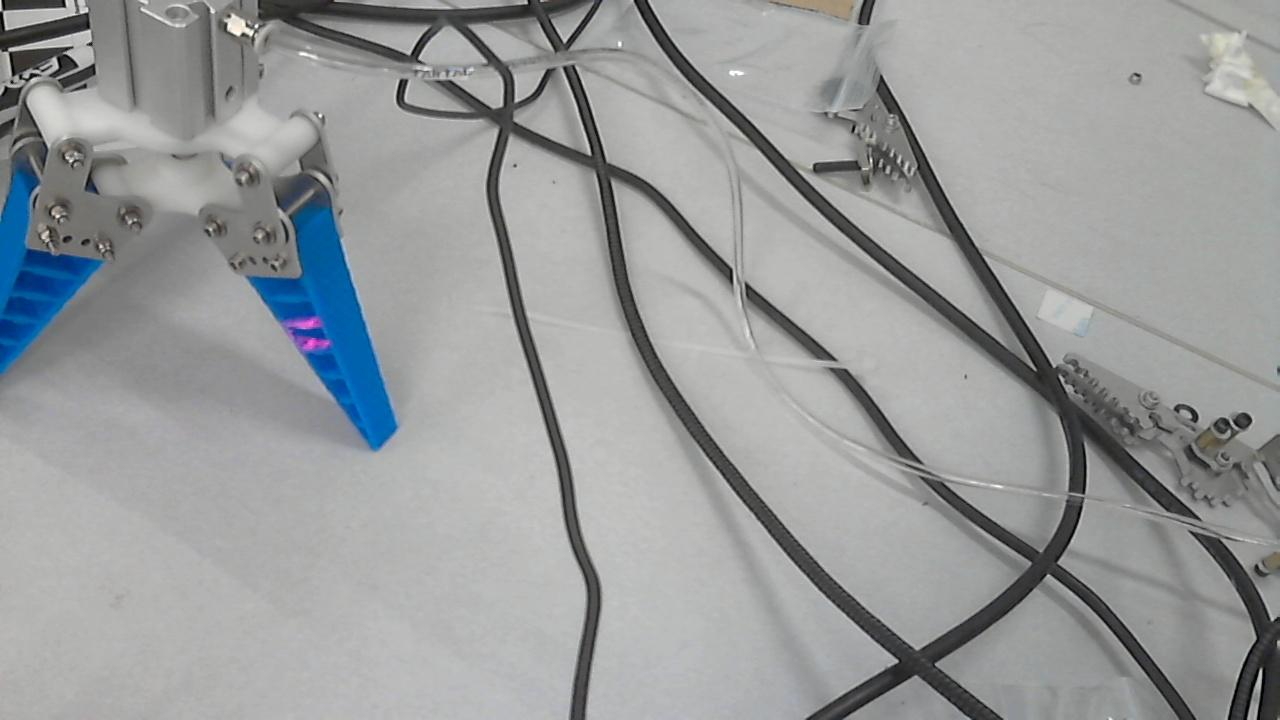Object robotic gripper finger assembly - Material plastic - Color blue - Pdfname: (259, 290, 366, 370)
